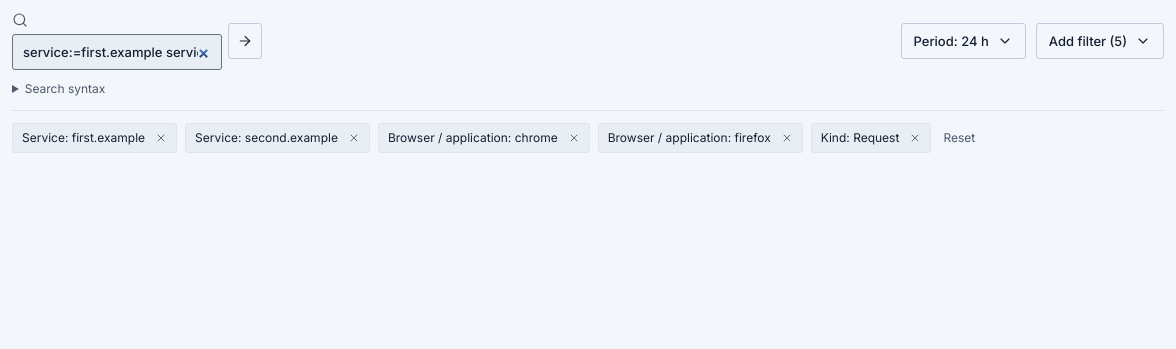
Test case: edits and removes repeated inherited criteria without discarding the other filters
What coordinates should you click on to do the following:
click the button "Service: first.example"
I would click on:
 (84, 138)
Its box is top-left (22, 129), bottom-right (145, 147).
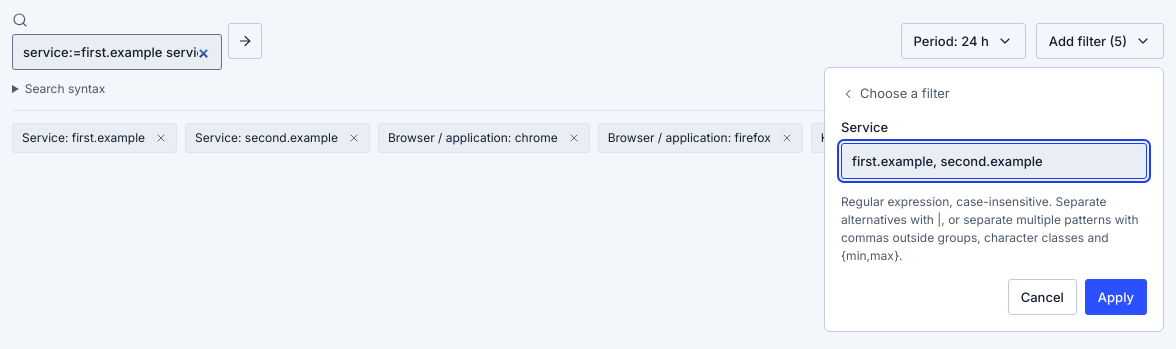
Expected: the field labelled "Service" holds "first.example, second.example", top-left (841, 143), bottom-right (1147, 179)
What coordinates should you click on to do the following:
click the button "Apply"
I would click on:
 (1116, 297)
Its box is top-left (1085, 279), bottom-right (1147, 315).
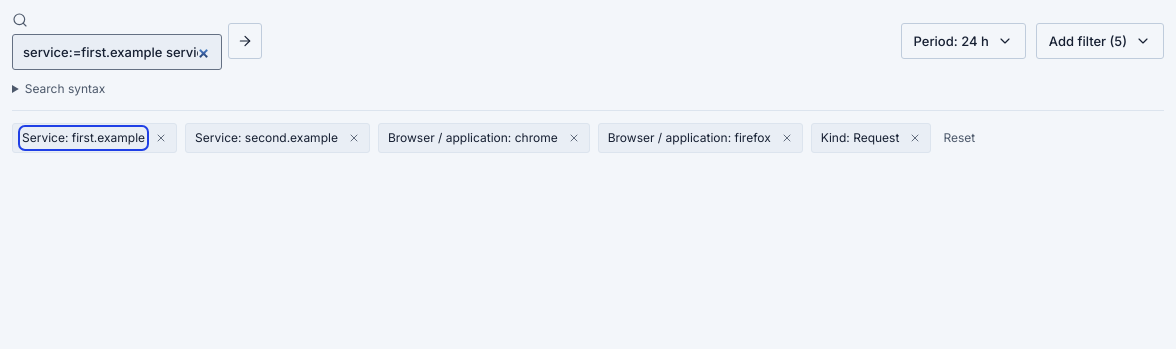
What coordinates should you click on to do the following:
click the button named "Remove Service: first.example"
I would click on:
 (161, 138)
Its box is top-left (151, 128), bottom-right (171, 148).
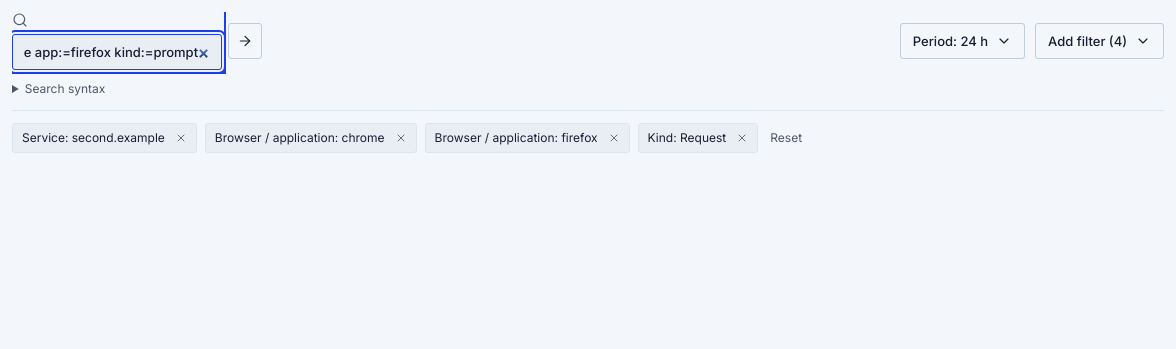
Expected: the button "Browser / application: firefox" is shown, top-left (435, 129), bottom-right (598, 147)
Expected: the button "Service: second.example" is shown, top-left (22, 129), bottom-right (165, 147)
